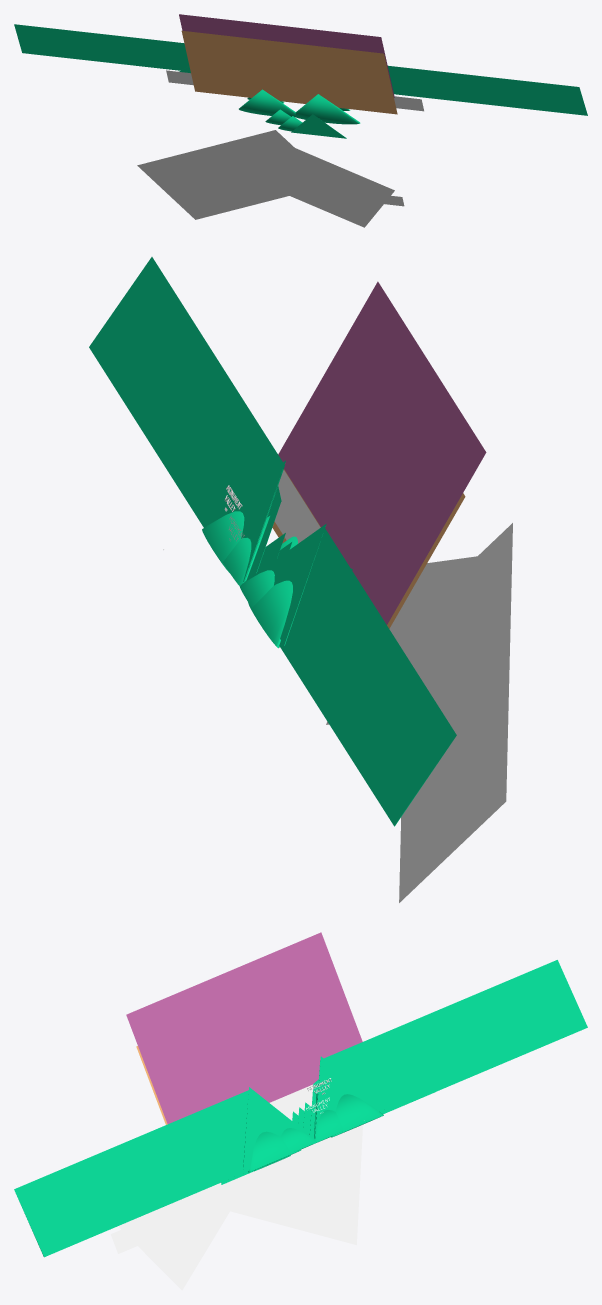
File: TITLE SCREEN TWEEN POSITION.fbx
The picture shows the model from 3 angles, top to bottom: view 1: azimuth 30°, elevation 25°; view 2: azimuth 150°, elevation 25°; view 3: azimuth 270°, elevation 25°; orthographic projection. The views are drawn at different scales.
Visible parts, largest first — view 1: Quad (1), fade (2), trianglemountainExtended, trianglemountainExtended (1), Quad pink, fade (1), Quad (9), Quad (10), sky, triangleMountain (1); view 2: Quad pink, trianglemountainExtended, trianglemountainExtended (1), fade (2), fade (1), triangleMountain (1) (×2), fade, sky, Quad (15), Quad (16), Quad (14), Quad (1); view 3: Quad pink, trianglemountainExtended, trianglemountainExtended (1), fade (2), fade, fade (1), triangleMountain (1) (×2), Quad (15), Quad (16), sky, Quad (13), Quad (14).
Boxes of the visible parts, left/top/right/bottom form: Quad (1): left=181, top=30, right=397, bottom=114; fade (2): left=137, top=130, right=333, bottom=219; trianglemountainExtended: left=388, top=65, right=587, bottom=115; trianglemountainExtended (1): left=14, top=24, right=189, bottom=70; Quad pink: left=179, top=14, right=394, bottom=97; fade (1): left=290, top=148, right=394, bottom=227; Quad (9): left=295, top=94, right=360, bottom=124; Quad (10): left=239, top=89, right=295, bottom=117; sky: left=166, top=70, right=423, bottom=111; triangleMountain (1): left=291, top=114, right=346, bottom=138; Quad pink: left=278, top=281, right=486, bottom=624; trianglemountainExtended: left=89, top=257, right=284, bottom=581; trianglemountainExtended (1): left=279, top=528, right=456, bottom=826; fade (2): left=399, top=523, right=512, bottom=902; fade (1): left=326, top=555, right=483, bottom=724; triangleMountain (1) (×2): left=203, top=460, right=326, bottom=645; fade: left=439, top=737, right=488, bottom=815; sky: left=274, top=470, right=320, bottom=543; Quad (15): left=248, top=580, right=292, bottom=648; Quad (16): left=202, top=511, right=244, bottom=572; Quad (14): left=223, top=516, right=269, bottom=586; Quad (1): left=272, top=469, right=465, bottom=628; Quad pink: left=126, top=932, right=362, bottom=1123; trianglemountainExtended: left=14, top=1090, right=249, bottom=1257; trianglemountainExtended (1): left=315, top=960, right=587, bottom=1125; fade (2): left=230, top=1124, right=362, bottom=1244; fade: left=111, top=1135, right=351, bottom=1253; fade (1): left=118, top=1174, right=247, bottom=1290; triangleMountain (1) (×2): left=243, top=1056, right=386, bottom=1169; Quad (15): left=331, top=1094, right=383, bottom=1137; Quad (16): left=248, top=1131, right=300, bottom=1172; sky: left=270, top=1084, right=313, bottom=1120; Quad (13): left=314, top=1094, right=343, bottom=1142; Quad (14): left=281, top=1128, right=316, bottom=1152.
Size of the model in its own units: 200 by 113 by 200.
